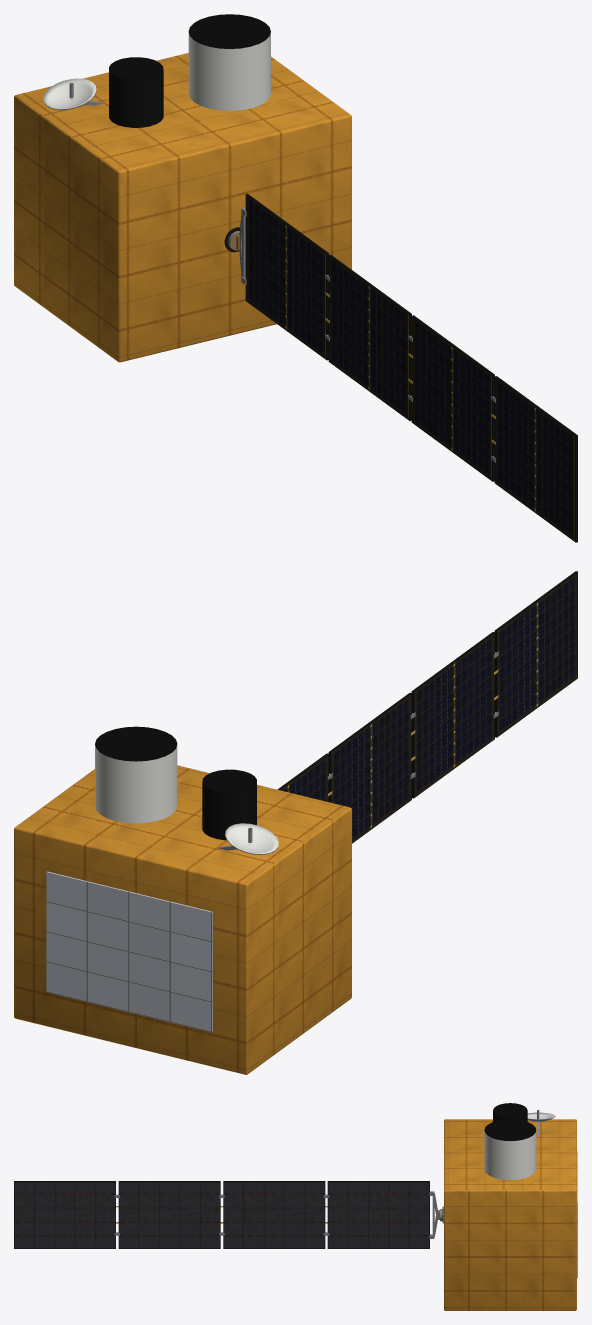
File: landsat.glb
3 views of the same model, one above another, from view 1: azimuth 30°, elevation 25°; view 2: azimuth 150°, elevation 25°; view 3: azimuth 270°, elevation 25° (orthographic). The views are drawn at different scales.
Parts seen in each view (by area): view 1: bus, wing-Y; view 2: bus, wing-Y; view 3: wing-Y, bus.
Boxes of the visible parts, <box> form: bus: <box>14,14,351,362</box>; wing-Y: <box>236,194,577,542</box>; bus: <box>14,726,351,1074</box>; wing-Y: <box>277,571,577,843</box>; wing-Y: <box>14,1181,439,1248</box>; bus: <box>444,1103,577,1310</box>.
Bounding box in the file's own units: 2.75 × 3.05 × 9.11.
Materials: 14 (5 with a texture image).
